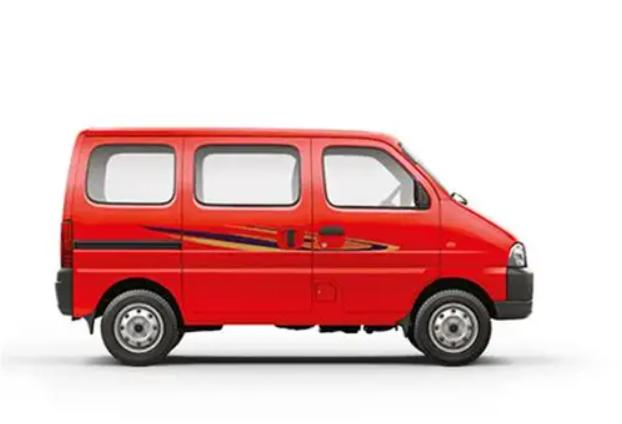van: (32, 92, 565, 396)
